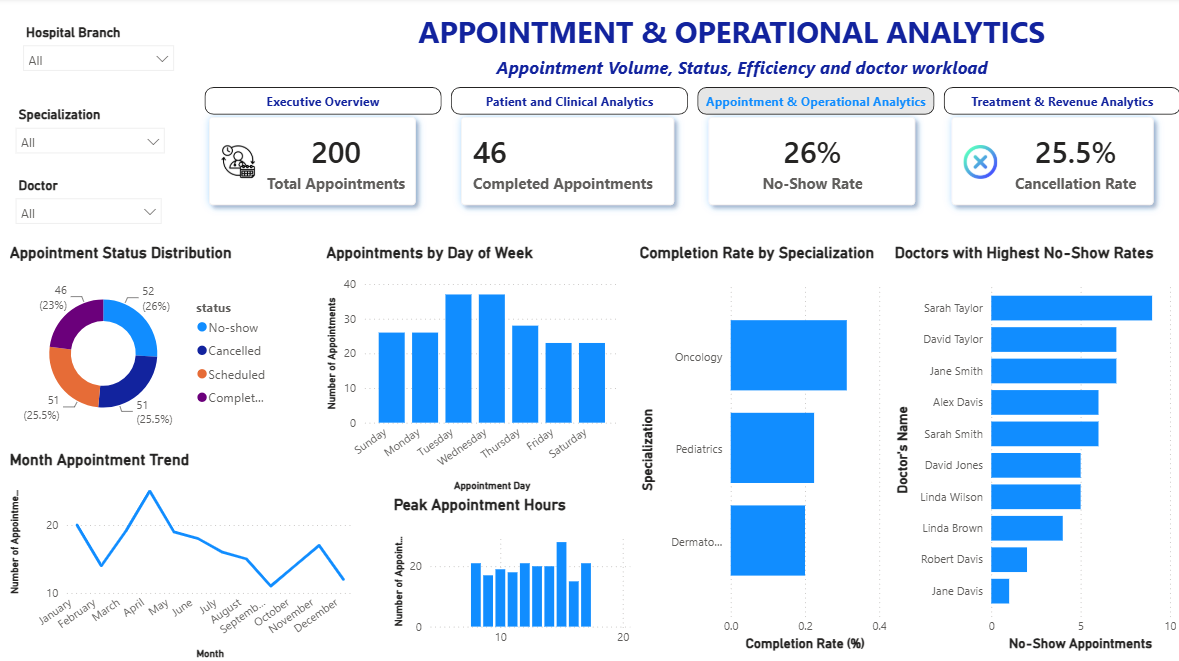

This screenshot's page, from the dashboard's own definition file:
{"tool":"powerbi","page":{"name":"Appointment & Operational Analytics","canvas":[1280,720],"ordinal":2},"visuals":[{"type":"textbox","box":[265.8,5.1,1013.7,92],"z":0},{"type":"cardVisual","fields":{"Data":["Executive Dashboard.Total Appointments"]},"box":[201.3,100.6,281.5,153.5],"z":1000},{"type":"cardVisual","fields":{"Data":["Executive Dashboard.No-Show Rate"]},"box":[740.4,100.6,281.5,153.5],"z":2000},{"type":"cardVisual","fields":{"Data":["Executive Dashboard.Cancellation Rate"]},"box":[1003.1,100.6,276.4,153.5],"z":3000},{"type":"donutChart","title":"Appointment Status Distribution","fields":{"Category":["Executive Dashboard.status"],"Y":["CountNonNull(Executive Dashboard.appointment_id)"]},"box":[10.2,266.1,298.5,208.1],"z":4000},{"type":"lineChart","title":"Month Appointment Trend","fields":{"Y":["CountNonNull(Executive Dashboard.appointment_id)"],"Category":["Executive Dashboard.Appointment_Month"]},"box":[10.2,489.6,380.4,230.3],"z":5000},{"type":"clusteredColumnChart","title":"Appointments by Day of Week","fields":{"Y":["CountNonNull(Executive Dashboard.appointment_id)"],"Category":["Executive Dashboard.Appointment_Day"]},"box":[351.4,266.1,325.8,272.9],"z":6000},{"type":"columnChart","title":"Peak Appointment Hours","fields":{"Category":["Executive Dashboard.Appointment_Hour"],"Y":["CountNonNull(Executive Dashboard.appointment_id)"]},"box":[424.2,538.4,265.8,172.1],"z":7000},{"type":"clusteredBarChart","title":"Doctors with Highest No-Show Rates","fields":{"Category":["Executive Dashboard.DoctorName"],"Y":["Executive Dashboard.No-Show Appointments"]},"box":[965.6,266.1,313.9,445.2],"z":8000},{"type":"clusteredBarChart","title":"Completion Rate by Specialization","fields":{"Category":["Executive Dashboard.specialization"],"Y":["Executive Dashboard.Completion Rate"]},"box":[689.2,266.1,276.4,445.2],"z":9000},{"type":"cardVisual","fields":{"Data":["Executive Dashboard.Completed Appointments"]},"box":[472.5,100.6,288.3,153.5],"z":10000},{"type":"slicer","fields":{"Values":["Executive Dashboard.specialization"]},"box":[11.9,112.6,180.8,76.8],"z":11000},{"type":"slicer","fields":{"Values":["Executive Dashboard.DoctorName"]},"box":[11.9,189.4,177.4,76.8],"z":12000},{"type":"slicer","fields":{"Values":["Executive Dashboard.hospital_branch"]},"box":[18.8,23.9,182.5,76.8],"z":13000},{"type":"pageNavigator","box":[225.1,97.2,1056.3,30.7],"z":13001}]}

Visuals, with their boxes in screenshot pixels (x1, y1, x2, y2), scaled from the page's 1280x720 canvas onto the 1179x661 screenshot:
textbox: {"left": 245, "top": 5, "right": 1178, "bottom": 89}
cardVisual - Executive Dashboard.Total Appointments: {"left": 185, "top": 92, "right": 445, "bottom": 233}
cardVisual - Executive Dashboard.No-Show Rate: {"left": 682, "top": 92, "right": 941, "bottom": 233}
cardVisual - Executive Dashboard.Cancellation Rate: {"left": 924, "top": 92, "right": 1178, "bottom": 233}
"Appointment Status Distribution" donutChart: {"left": 9, "top": 244, "right": 284, "bottom": 435}
"Month Appointment Trend" lineChart: {"left": 9, "top": 449, "right": 360, "bottom": 660}
"Appointments by Day of Week" clusteredColumnChart: {"left": 324, "top": 244, "right": 624, "bottom": 495}
"Peak Appointment Hours" columnChart: {"left": 391, "top": 494, "right": 636, "bottom": 652}
"Doctors with Highest No-Show Rates" clusteredBarChart: {"left": 889, "top": 244, "right": 1178, "bottom": 653}
"Completion Rate by Specialization" clusteredBarChart: {"left": 635, "top": 244, "right": 889, "bottom": 653}
cardVisual - Executive Dashboard.Completed Appointments: {"left": 435, "top": 92, "right": 701, "bottom": 233}
slicer - Executive Dashboard.specialization: {"left": 11, "top": 103, "right": 177, "bottom": 174}
slicer - Executive Dashboard.DoctorName: {"left": 11, "top": 174, "right": 174, "bottom": 244}
slicer - Executive Dashboard.hospital_branch: {"left": 17, "top": 22, "right": 185, "bottom": 92}
pageNavigator: {"left": 207, "top": 89, "right": 1178, "bottom": 117}
